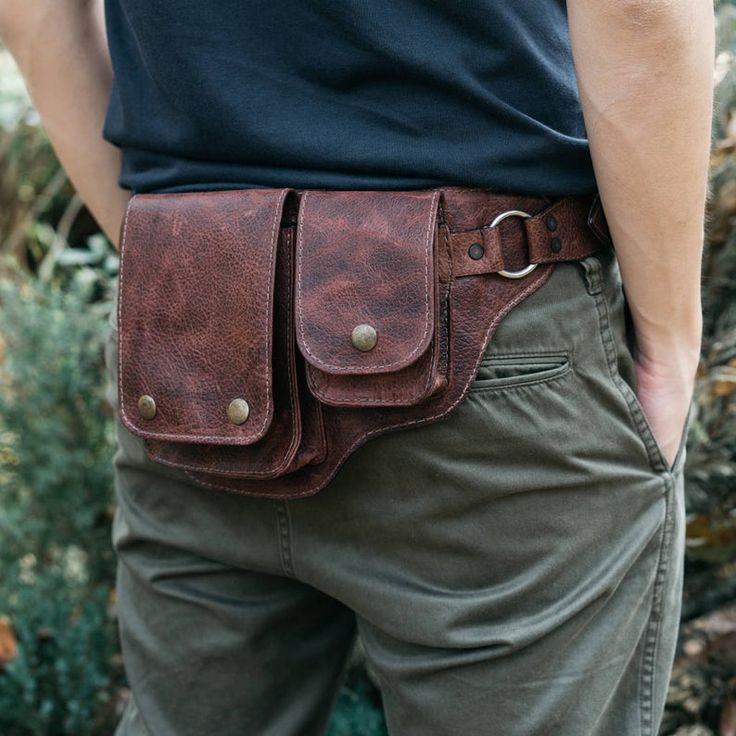cuero: (117, 184, 614, 498)
